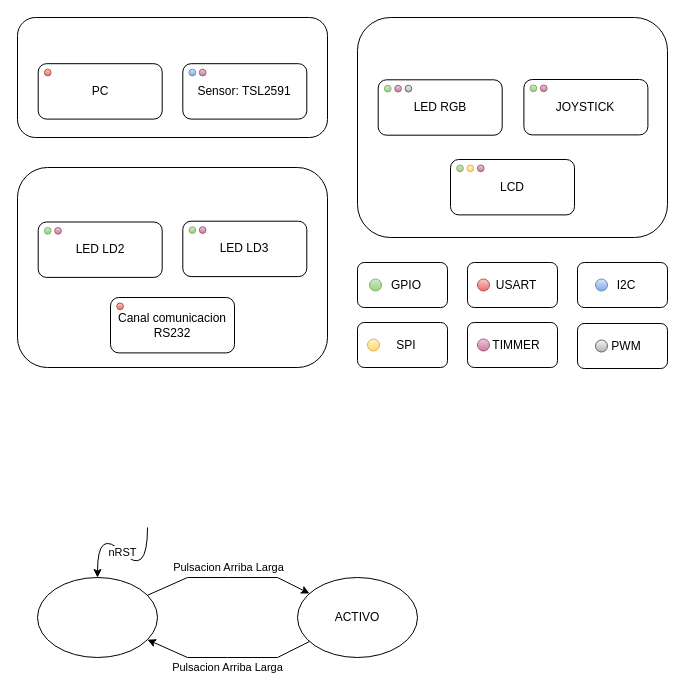
Some shapes in this 685 by 691 pixel diagram are drawn without their labels. Each missing label, with the box of its shape:
Elementos externos / independientes: (16, 16, 328, 138)
INACTIVO: (36, 576, 158, 658)
MBED APPBOARD: (356, 16, 668, 238)
NUCLEO STM32F429Zi: (16, 166, 328, 368)
